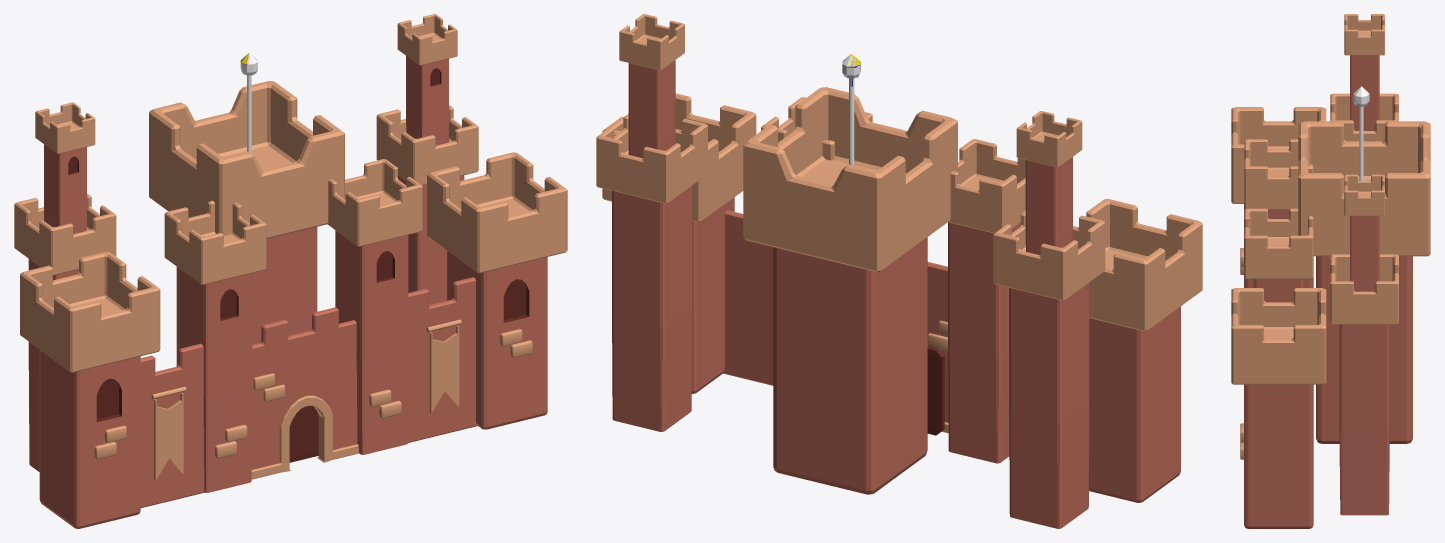
The model's file is Castle.fbx.
The picture shows the model from 3 angles, left to right: view 1: azimuth 30°, elevation 25°; view 2: azimuth 150°, elevation 25°; view 3: azimuth 270°, elevation 25°; orthographic projection. The views are drawn at different scales.
Visible parts, largest first — view 1: Castle, Door; view 2: Castle, Door; view 3: Castle.
Part boxes in pixels (x1,y1,x2,y2): Castle: [14, 14, 567, 528]; Door: [289, 406, 318, 462]; Castle: [596, 14, 1202, 528]; Door: [927, 346, 944, 435]; Castle: [1231, 14, 1430, 528].
Bounding box in the file's own units: 48.94 × 35.14 × 18.66.
